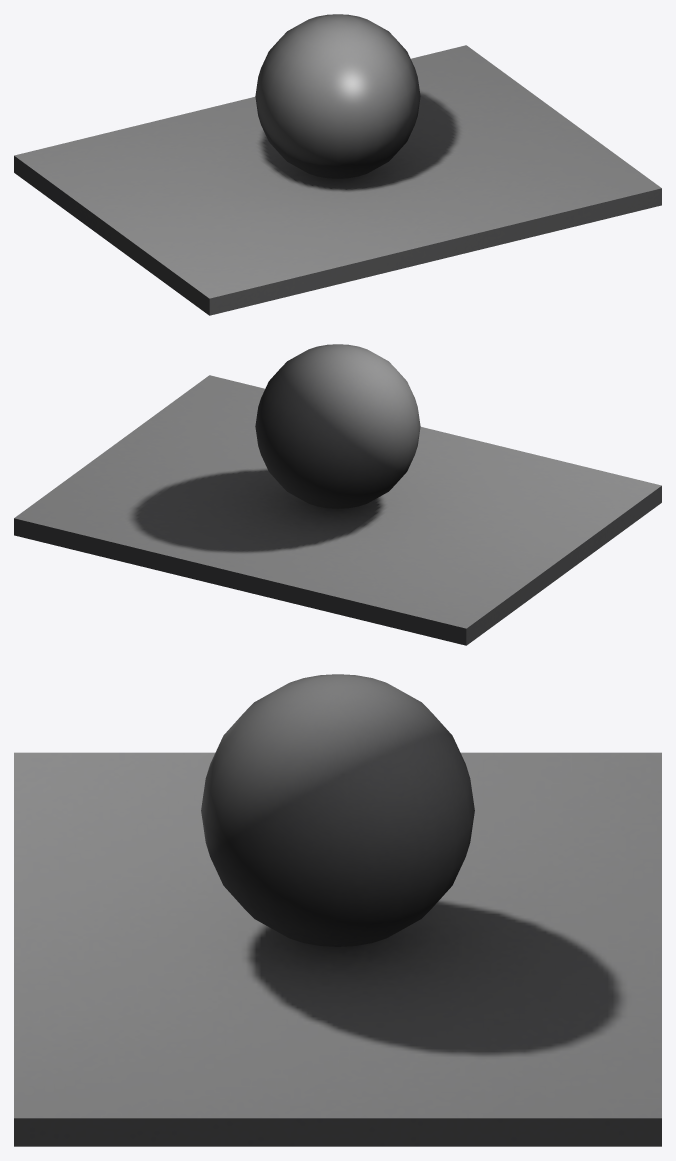
The picture shows the model from 3 angles, top to bottom: view 1: azimuth 30°, elevation 25°; view 2: azimuth 150°, elevation 25°; view 3: azimuth 270°, elevation 25°; orthographic projection. The views are drawn at different scales.
Visible parts, largest first — view 1: Box001; view 2: Box001; view 3: Box001.
Boxes of the visible parts, bbox=[...] form: Box001: bbox=[14, 14, 661, 315]; Box001: bbox=[14, 344, 661, 645]; Box001: bbox=[14, 674, 661, 1146].
Bounding box in the file's own units: 83.06 × 29.36 × 62.16.
